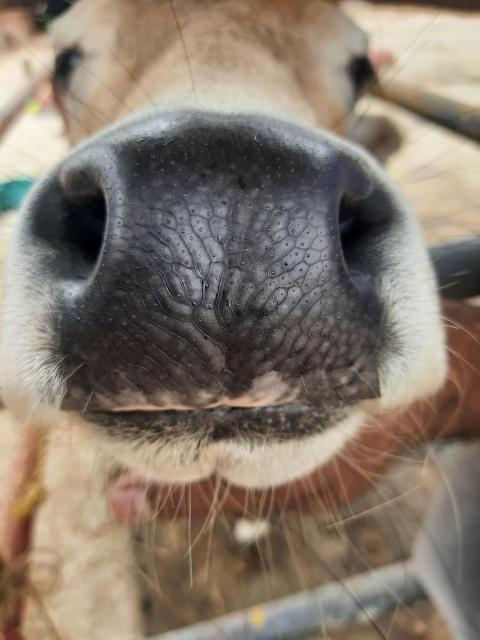Muzzle: (70, 130, 380, 404)
